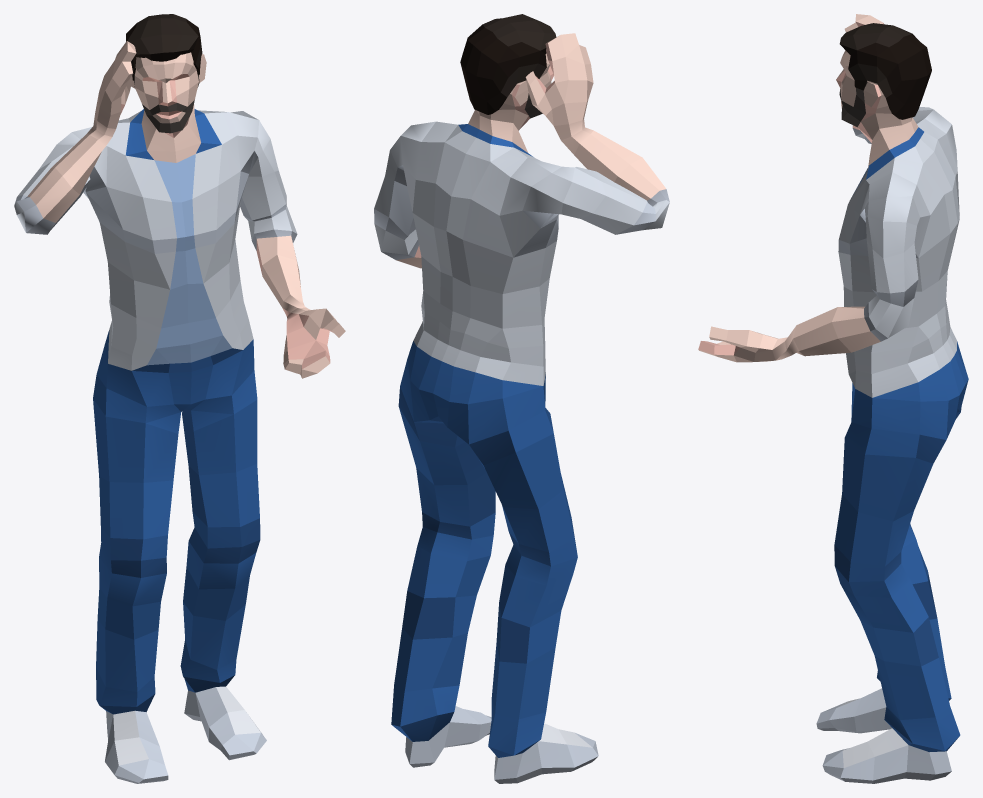
Rendered from man-phone.glb.
The picture shows the model from 3 angles, left to right: view 1: azimuth 30°, elevation 25°; view 2: azimuth 150°, elevation 25°; view 3: azimuth 270°, elevation 25°; orthographic projection. The views are drawn at different scales.
Parts seen in each view (by area): view 1: man-phone; view 2: man-phone; view 3: man-phone.
Part boxes in pixels (x1,y1,x2,y2): man-phone: (14, 14, 345, 783); man-phone: (374, 14, 669, 783); man-phone: (698, 14, 968, 783).
Size of the model in its own units: 0.7082 by 1.77 by 0.6036.
Materials: 1 (1 with a texture image).
